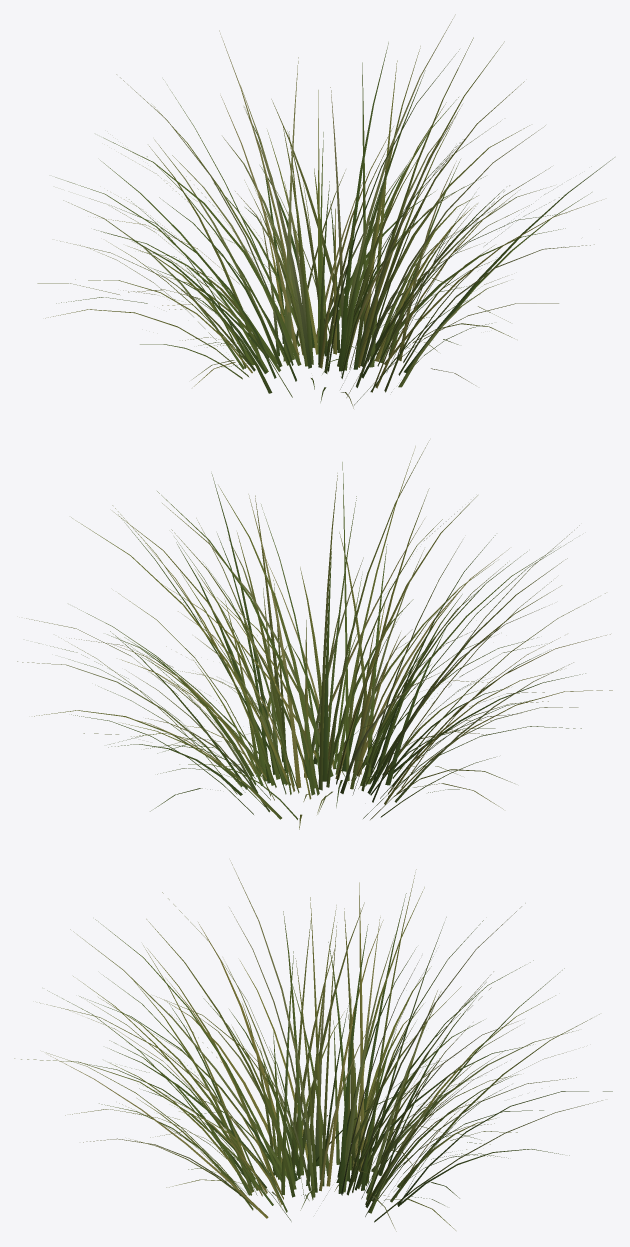
Rendered from tuft_a.glb.
The picture shows the model from 3 angles, top to bottom: view 1: azimuth 30°, elevation 25°; view 2: azimuth 150°, elevation 25°; view 3: azimuth 270°, elevation 25°; orthographic projection. The views are drawn at different scales.
Visible parts, largest first — view 1: tuft_a; view 2: tuft_a; view 3: tuft_a.
Part boxes in pixels (x1,y1,x2,y2): tuft_a: (37, 14, 614, 408); tuft_a: (17, 440, 612, 829); tuft_a: (14, 860, 612, 1231).
Size of the model in its own units: 0.5845 by 0.3159 by 0.5822.
